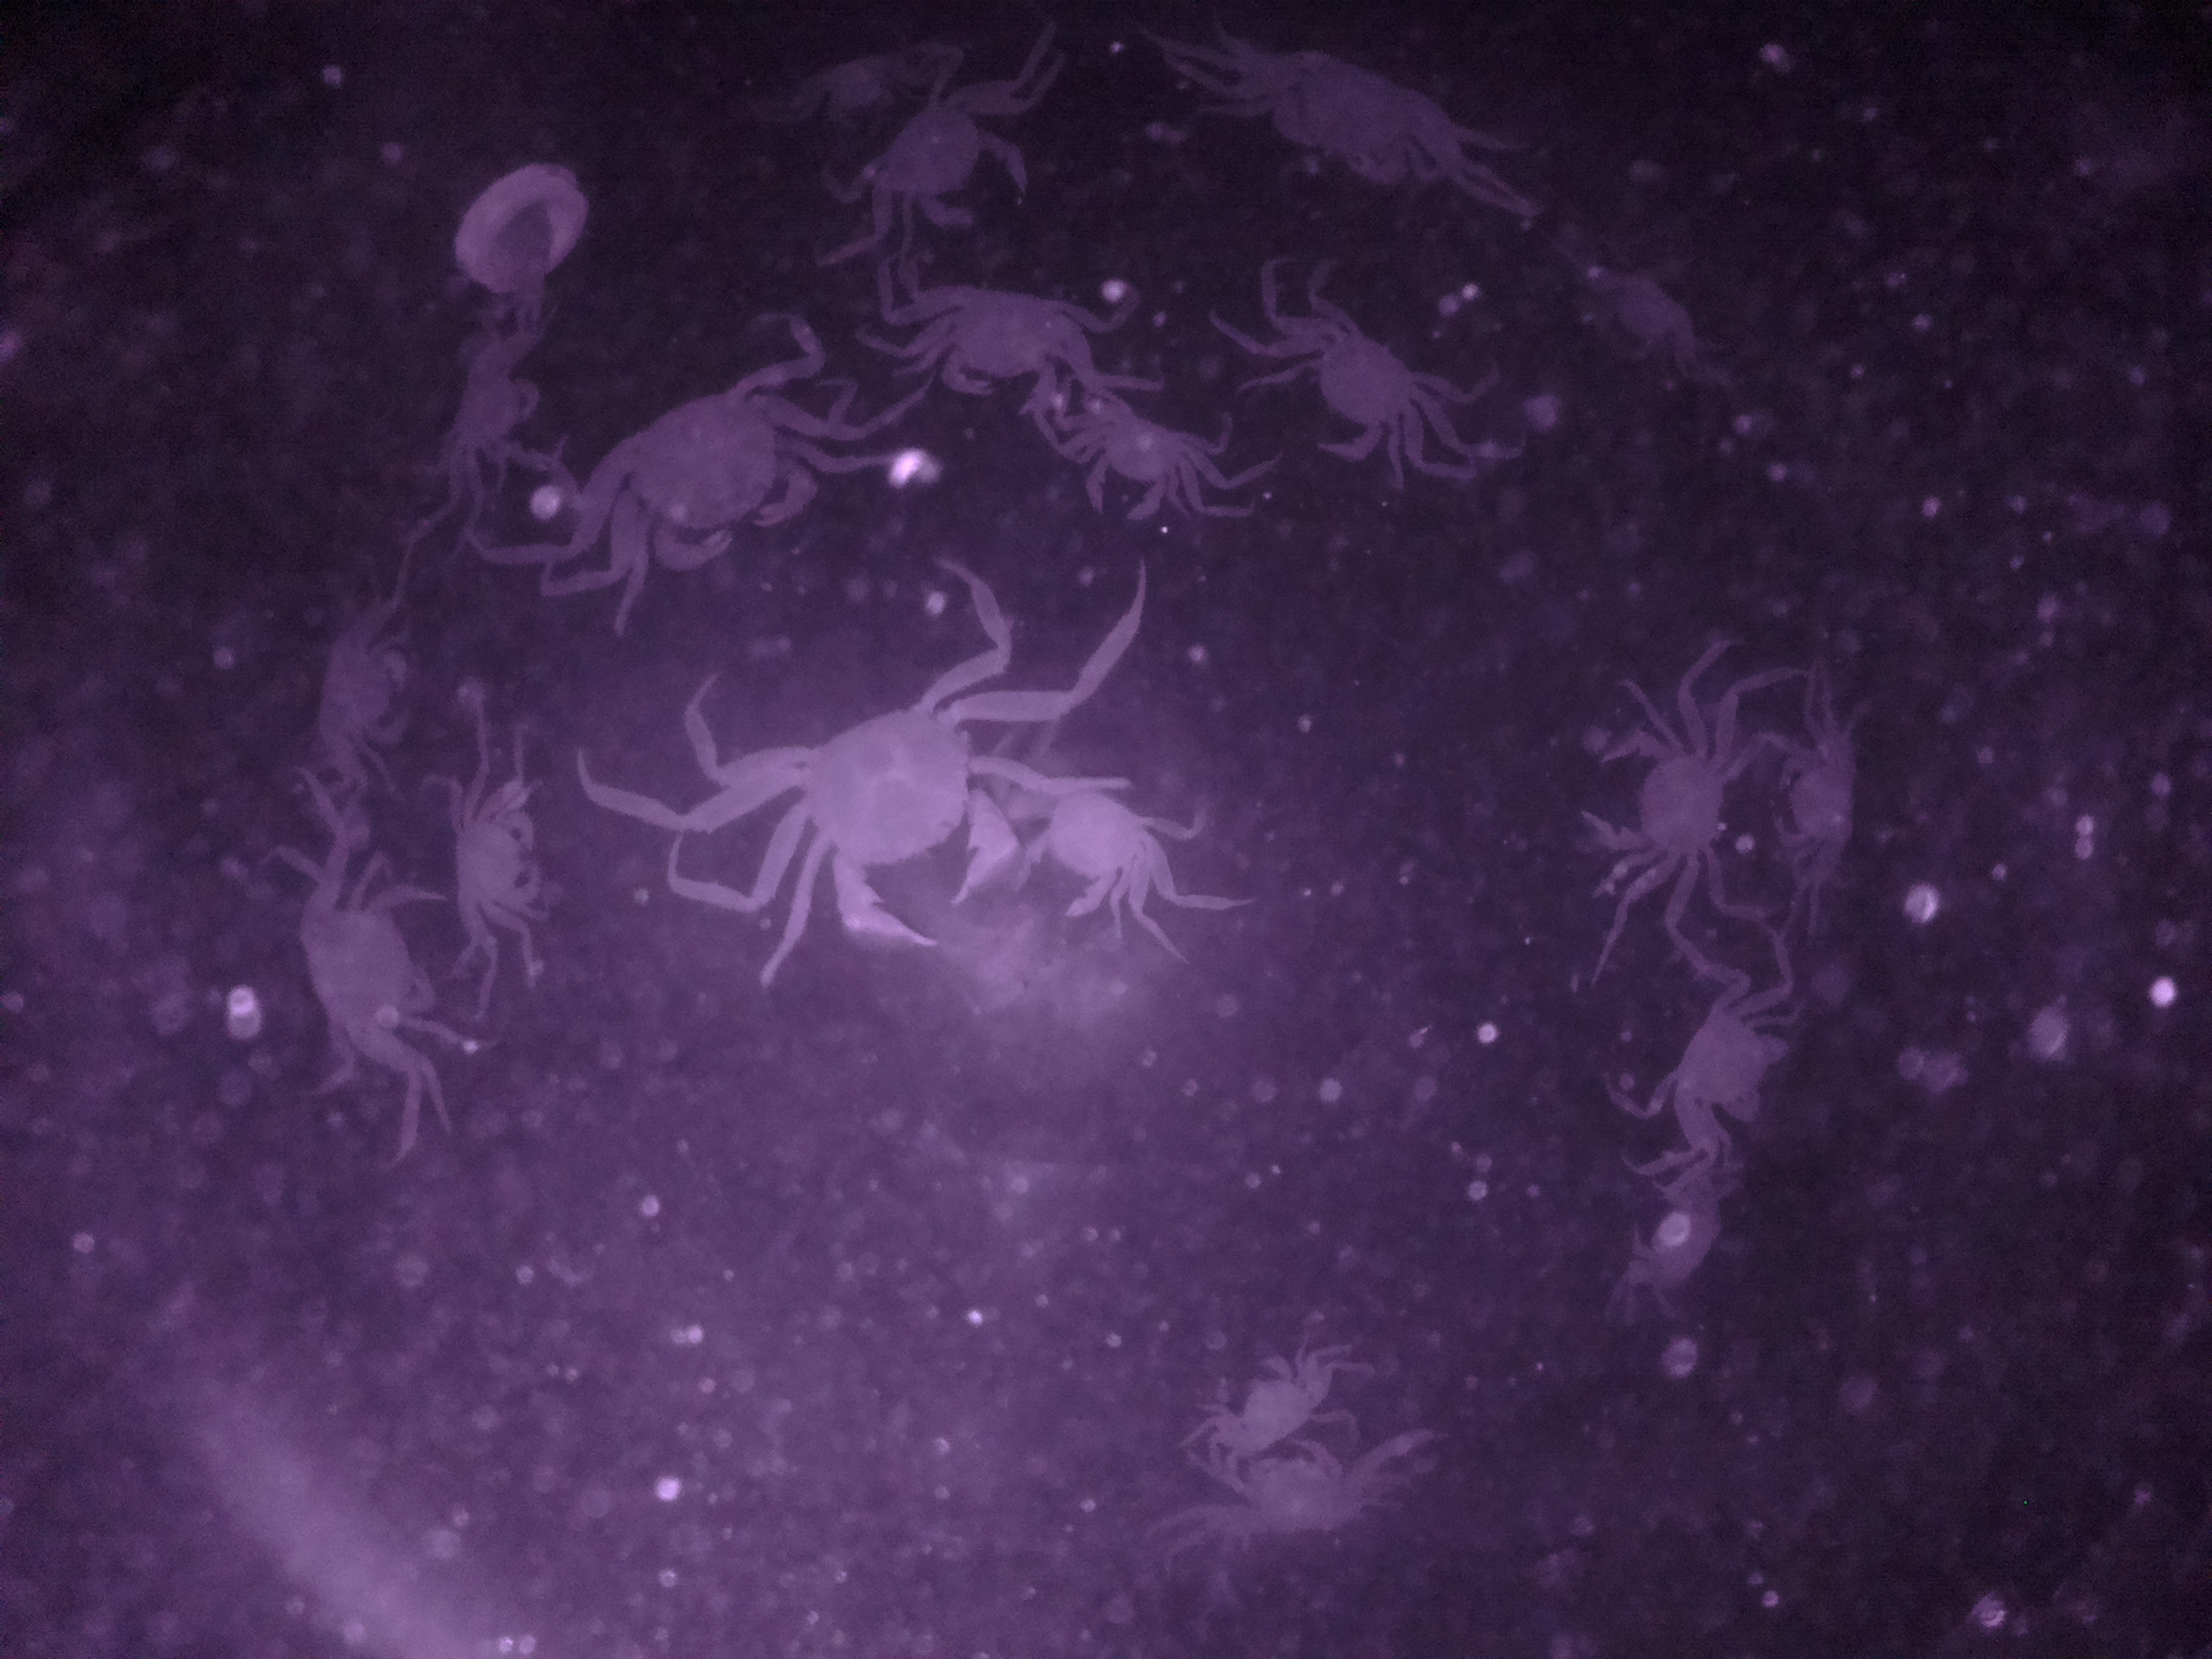Crab: (759, 681, 1014, 978), (589, 373, 836, 580), (1238, 19, 1494, 199), (1247, 303, 1463, 484), (277, 863, 449, 1077), (1562, 701, 1756, 890), (845, 73, 1043, 246), (991, 765, 1191, 931), (1646, 976, 1789, 1175), (911, 272, 1085, 416), (423, 788, 575, 946), (1073, 394, 1219, 533), (1176, 1342, 1327, 1467)
